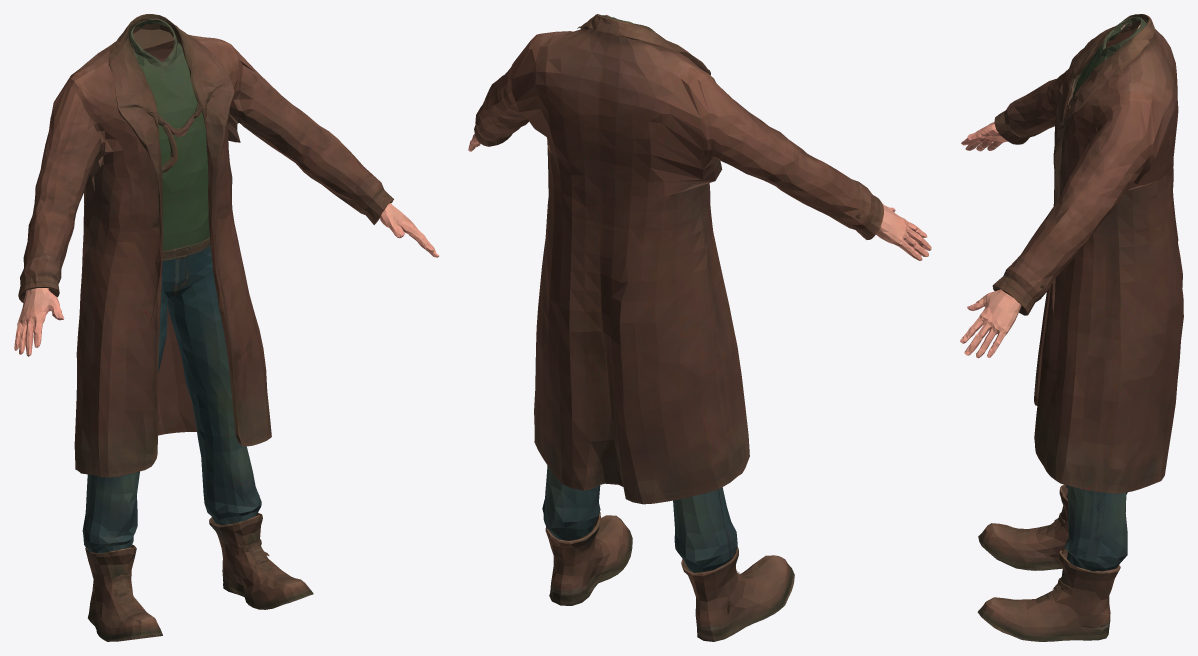
File: ewm_t2homosapien_outfit.glb
3 views of the same model, side by side, from view 1: azimuth 30°, elevation 25°; view 2: azimuth 150°, elevation 25°; view 3: azimuth 270°, elevation 25° (orthographic). The views are drawn at different scales.
Parts seen in each view (by area): view 1: ewm_t2homosapien_outfit; view 2: ewm_t2homosapien_outfit; view 3: ewm_t2homosapien_outfit.
Part boxes in pixels (box(x1,y1,x2,y2)): ewm_t2homosapien_outfit: box(14, 14, 439, 641); ewm_t2homosapien_outfit: box(468, 14, 931, 641); ewm_t2homosapien_outfit: box(960, 14, 1183, 641).
Size of the model in its own units: 1.29 by 1.68 by 0.5845.
1 material, 1 textured.
